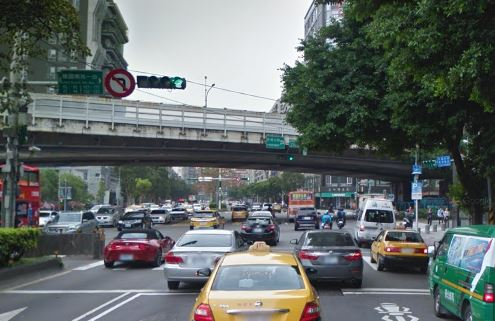No_left_turn: (104, 69, 135, 97)
Traffic_light_green: (137, 75, 186, 89)
